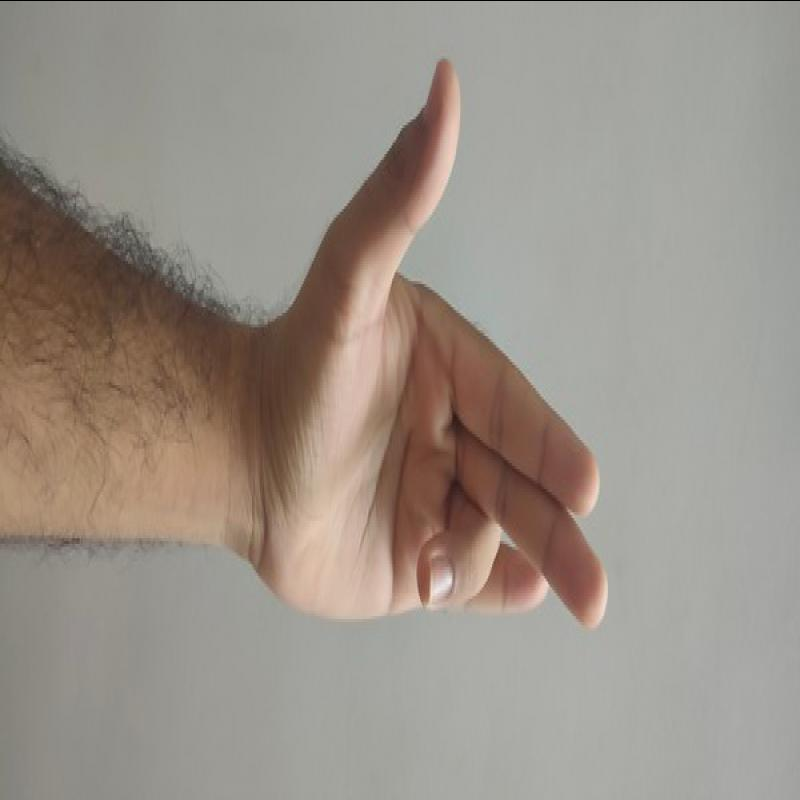Pathaaka: (243, 52, 622, 649)
